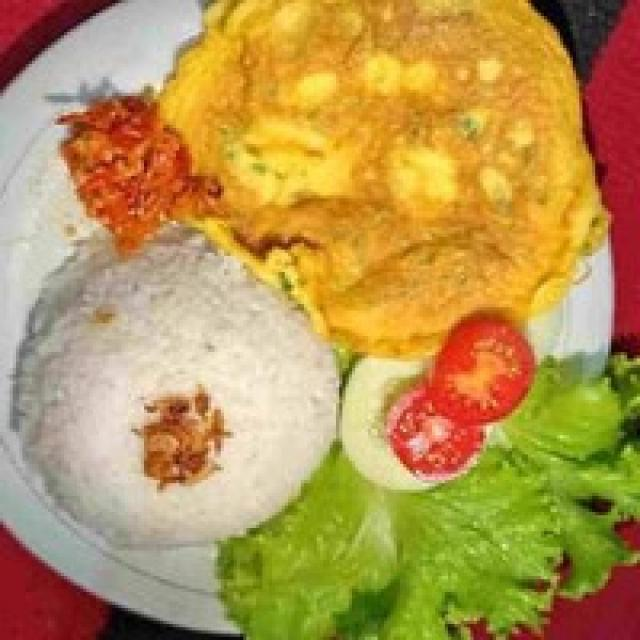nasi_putih: (16, 240, 330, 548)
telur_ayam_dadar: (171, 0, 611, 349)
